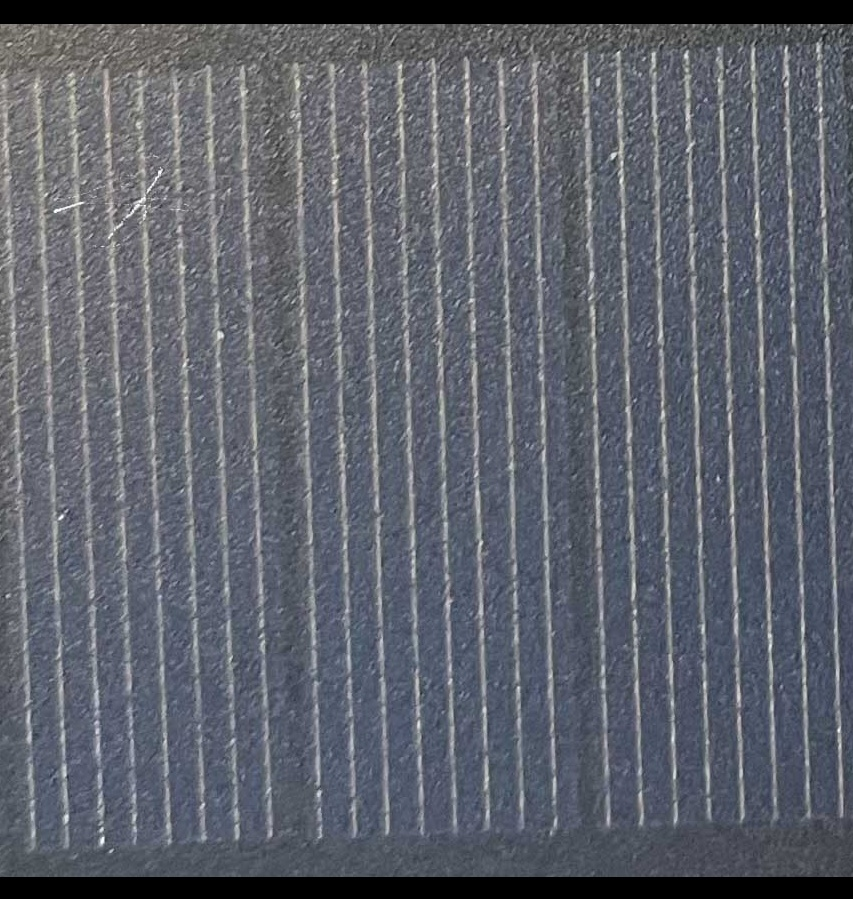Crack: (48, 158, 174, 244)
